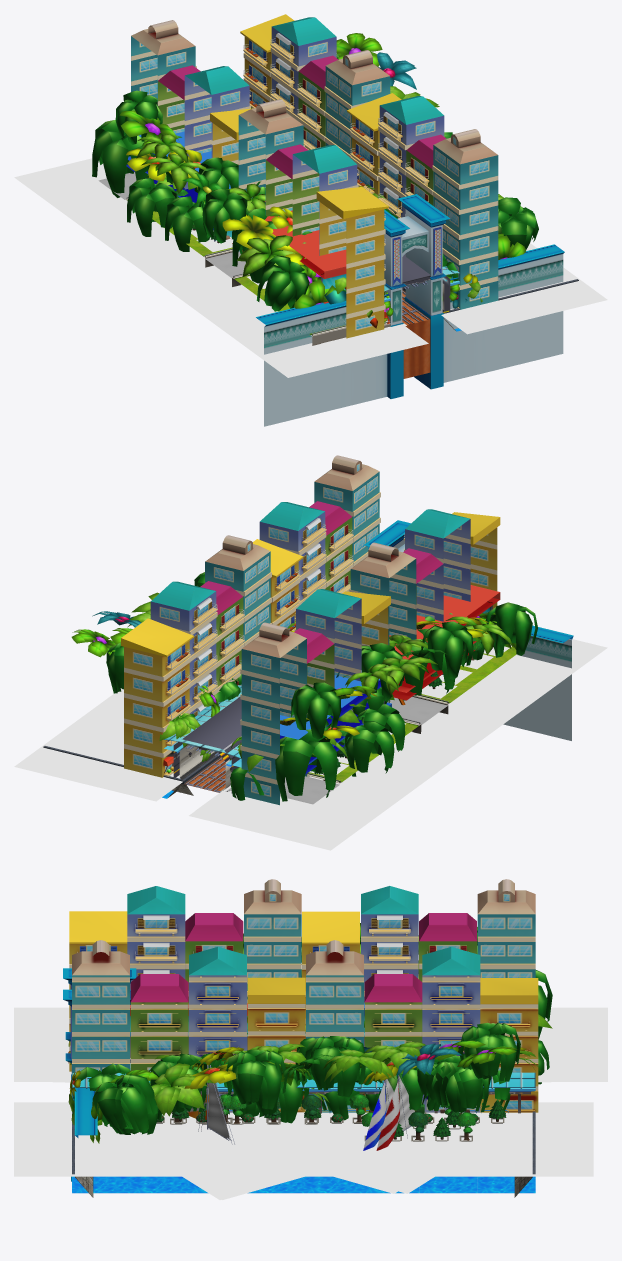
File: TerrainB.FBX
3 views of the same model, one above another, from view 1: azimuth 30°, elevation 25°; view 2: azimuth 150°, elevation 25°; view 3: azimuth 270°, elevation 25° (orthographic). The views are drawn at different scales.
Parts seen in each view (by area): view 1: Building, ArchWall, LeftForest03, LeftForest01, RightForest02, Store, Park01, AbyssWall, RightForest01, Tunnel, LeftForest02; view 2: Building, LeftForest03, LeftForest01, RightForest01, Park01, ArchWall, Store, Tunnel, LeftForest02, RightForest02, Station, BaseRoad; view 3: Building, RightForest01, RightForest02, StartSea, LeftForest01, LeftForest03, SeaBoat02, LeftForest02, SeaBoat01, Park02, LineTree, Station (+1 smaller).
Part boxes in pixels (bbox=[...]): Building: bbox=[131, 14, 498, 338]; ArchWall: bbox=[256, 194, 564, 426]; LeftForest03: bbox=[21, 90, 428, 377]; LeftForest01: bbox=[14, 120, 346, 354]; RightForest02: bbox=[251, 36, 607, 334]; Store: bbox=[125, 131, 406, 345]; Park01: bbox=[98, 172, 390, 345]; AbyssWall: bbox=[403, 319, 430, 378]; RightForest01: bbox=[336, 33, 575, 279]; Tunnel: bbox=[402, 254, 450, 312]; LeftForest02: bbox=[184, 287, 428, 377]; Building: bbox=[121, 455, 500, 805]; LeftForest03: bbox=[197, 602, 607, 844]; LeftForest01: bbox=[189, 612, 575, 850]; RightForest01: bbox=[14, 572, 294, 801]; Park01: bbox=[226, 638, 516, 804]; ArchWall: bbox=[364, 520, 573, 740]; Store: bbox=[221, 585, 517, 791]; Tunnel: bbox=[173, 697, 241, 793]; LeftForest02: bbox=[421, 641, 606, 739]; RightForest02: bbox=[76, 574, 295, 760]; Station: bbox=[164, 684, 241, 767]; BaseRoad: bbox=[184, 745, 225, 792]; Building: bbox=[53, 879, 550, 1112]; RightForest01: bbox=[82, 1023, 593, 1176]; RightForest02: bbox=[14, 1022, 535, 1176]; StartSea: bbox=[72, 1112, 535, 1197]; LeftForest01: bbox=[130, 969, 607, 1084]; LeftForest03: bbox=[14, 923, 593, 1081]; SeaBoat02: bbox=[182, 1065, 434, 1199]; LeftForest02: bbox=[14, 1007, 71, 1081]; SeaBoat01: bbox=[185, 1065, 421, 1199]; Park02: bbox=[170, 1095, 476, 1141]; LineTree: bbox=[156, 1094, 506, 1123]; Station: bbox=[72, 1033, 535, 1113].
Size of the model in its own units: 17516 by 12134 by 25626.
